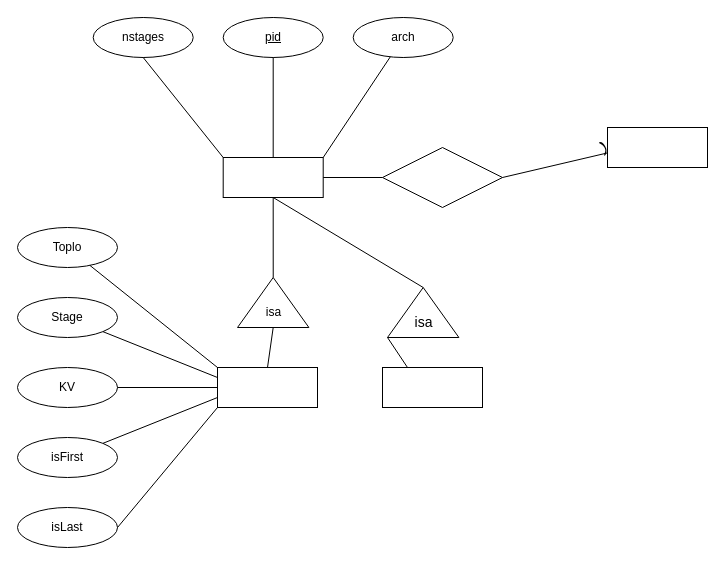
Some shapes in this 725 by 565 pixel diagram are drawn without their labels. The shapes that lost their labels are listed below. From the top down, each one's box as (x1, y1, x2, y2) in pixels, then its label:
(606, 126, 708, 168): Ocuner
(222, 156, 323, 198): Property
(382, 146, 502, 208): has
(216, 366, 318, 408): Flats
(382, 366, 482, 408): Houses
